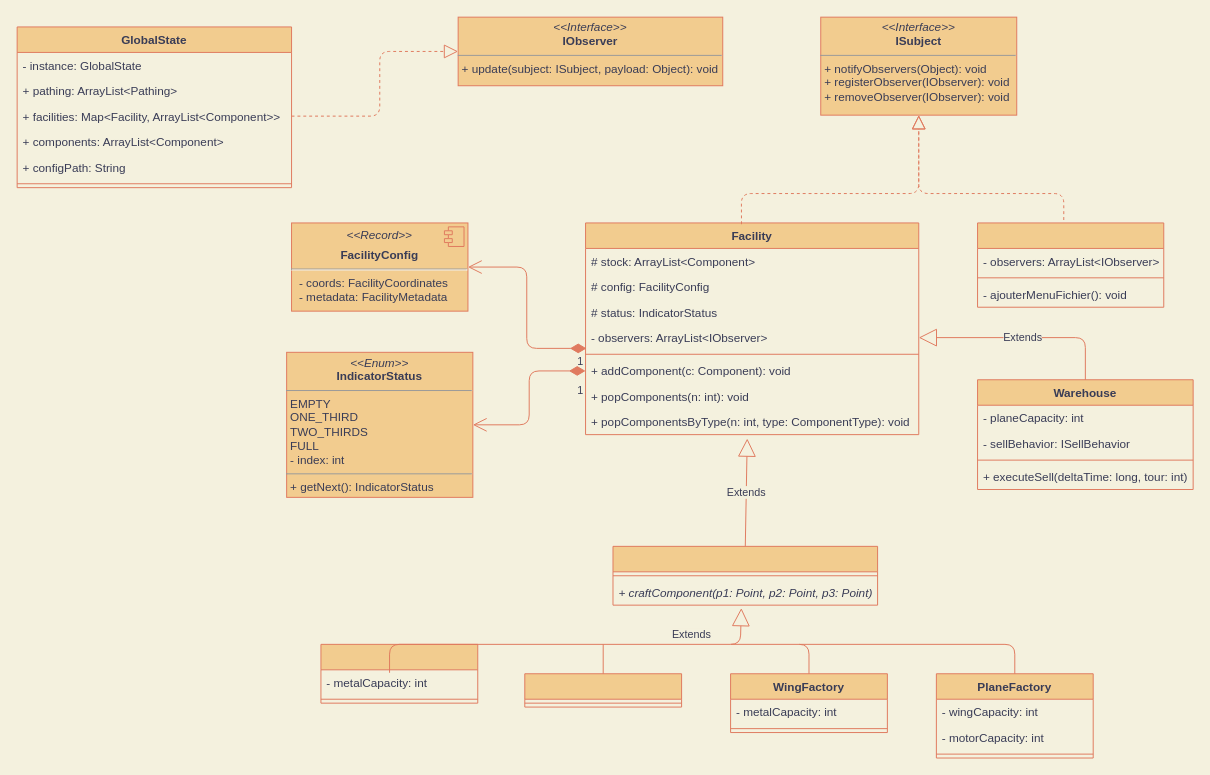
Image size: 1210x775. Some labels were removed from this diagram. The shapes that lost their labels are listed below. From the top down, each one's box as (x1, y1, x2, y2) in pixels, then its label:
(977, 222, 1164, 307): MenuFenetre
(612, 545, 878, 605): Factory
(320, 643, 478, 703): MotorFactory
(524, 673, 682, 707): MetalFactory
